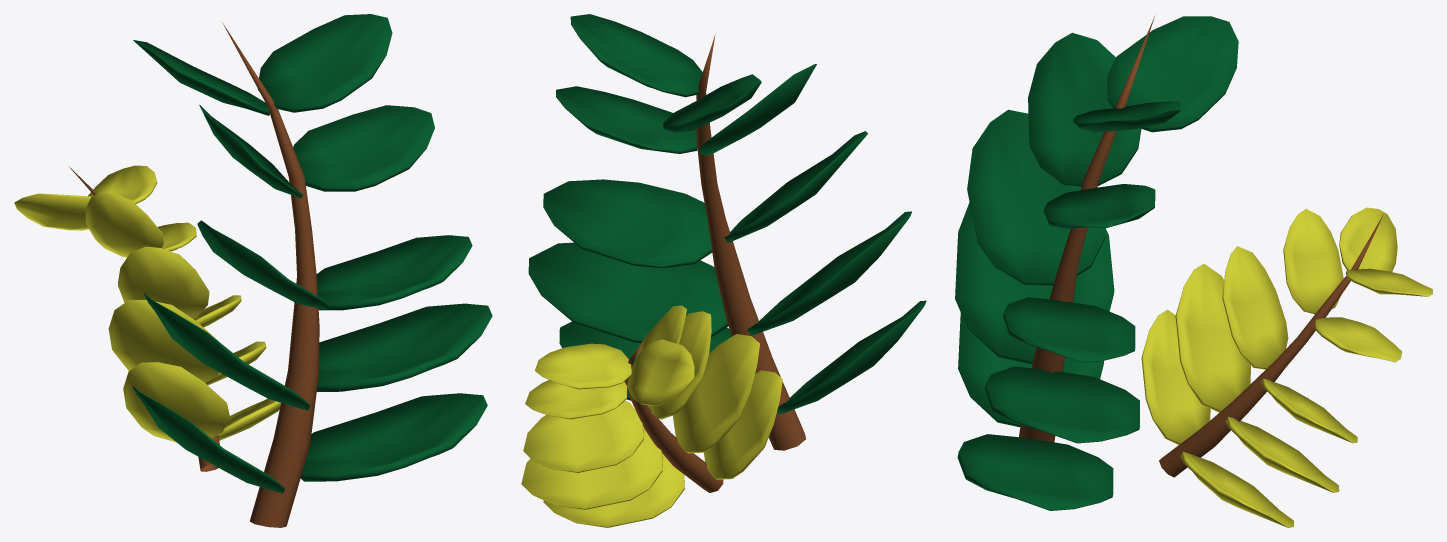
The model's file is Grass_07.fbx.
3 views of the same model, side by side, from view 1: azimuth 30°, elevation 25°; view 2: azimuth 150°, elevation 25°; view 3: azimuth 270°, elevation 25° (orthographic). The views are drawn at different scales.
Visible parts, largest first — view 1: grass_07; view 2: grass_07; view 3: grass_07.
Part boxes in pixels (x1,y1,x2,y2): grass_07: (14,14,492,527); grass_07: (521,14,926,527); grass_07: (955,16,1432,527).
Size of the model in its own units: 116 by 139 by 126.
Materials: 1 (1 with a texture image).
